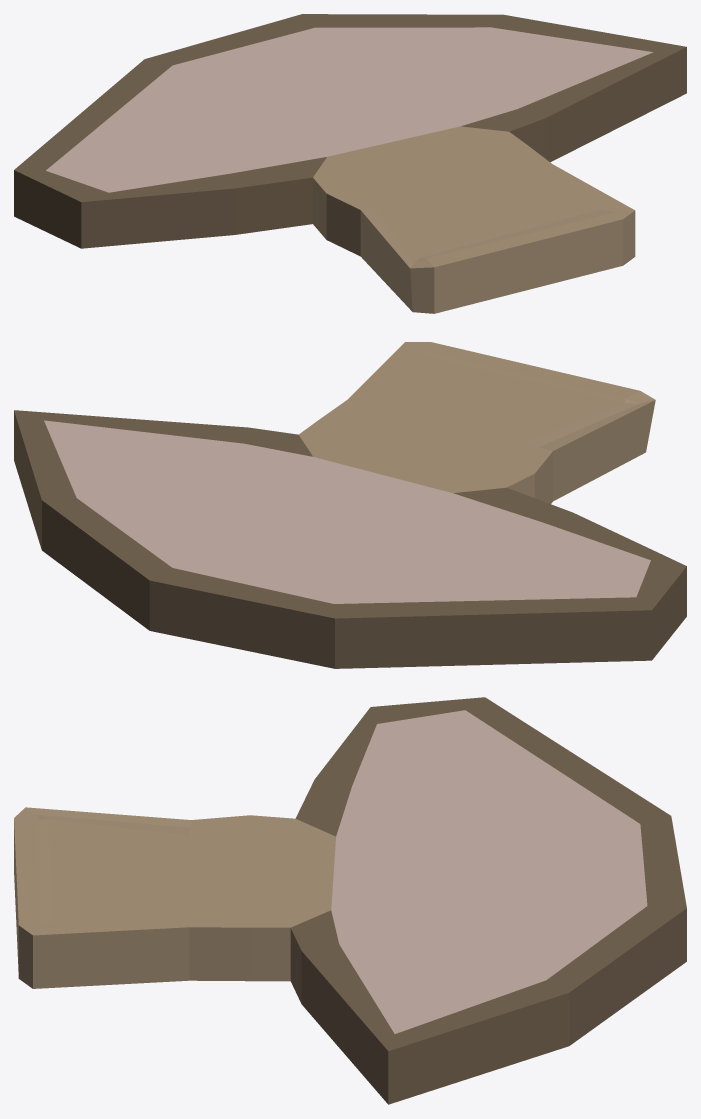
Rendered from Portabello Mushroom Slice.fbx.
3 views of the same model, one above another, from view 1: azimuth 30°, elevation 25°; view 2: azimuth 150°, elevation 25°; view 3: azimuth 270°, elevation 25° (orthographic). The views are drawn at different scales.
Parts seen in each view (by area): view 1: Portabello Mushroom Slice; view 2: Portabello Mushroom Slice; view 3: Portabello Mushroom Slice.
Boxes of the visible parts, x1,y1,x2,y2 form: Portabello Mushroom Slice: (14, 14, 686, 313); Portabello Mushroom Slice: (14, 342, 686, 668); Portabello Mushroom Slice: (14, 697, 686, 1104).
Bounding box in the file's own units: 9.85 × 0.7096 × 7.91.
